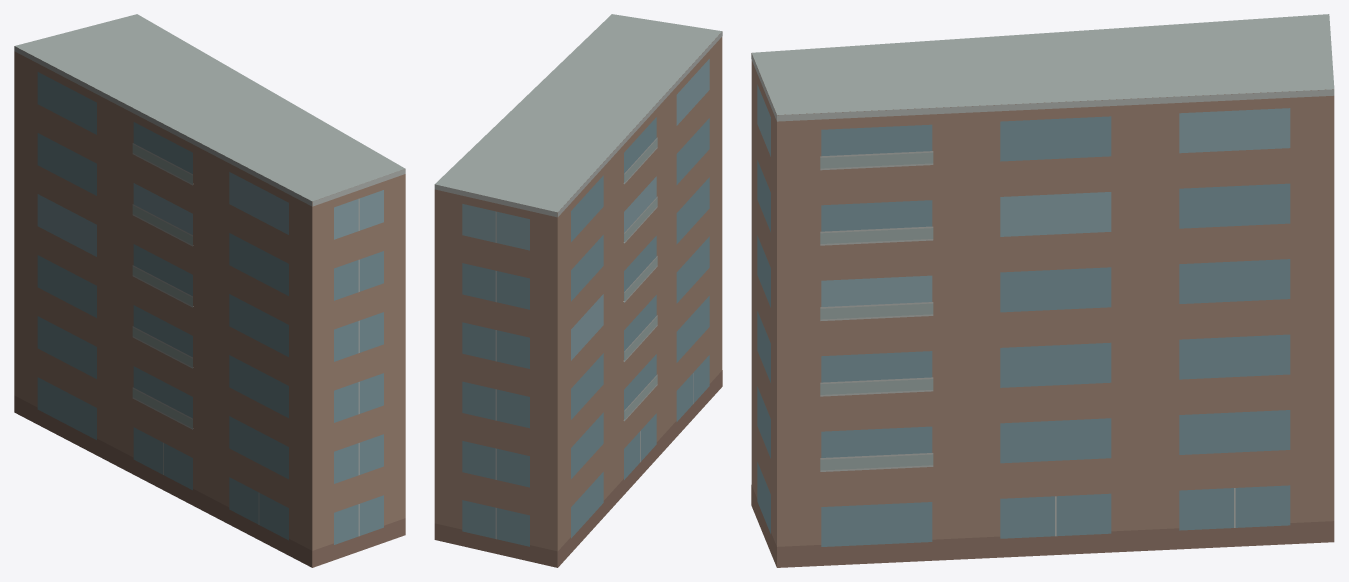
The model's file is survey-upis-32958062.glb.
3 views of the same model, side by side, from view 1: azimuth 30°, elevation 25°; view 2: azimuth 150°, elevation 25°; view 3: azimuth 270°, elevation 25° (orthographic). The views are drawn at different scales.
Visible parts, largest first — view 1: survey-upis-32958062.tmp; view 2: survey-upis-32958062.tmp; view 3: survey-upis-32958062.tmp.
Part boxes in pixels (box(x1,y1,x2,y2)): survey-upis-32958062.tmp: box(14, 14, 405, 567); survey-upis-32958062.tmp: box(434, 14, 722, 567); survey-upis-32958062.tmp: box(751, 14, 1334, 567).
Bounding box in the file's own units: 8.25 × 17.2 × 20.08.
